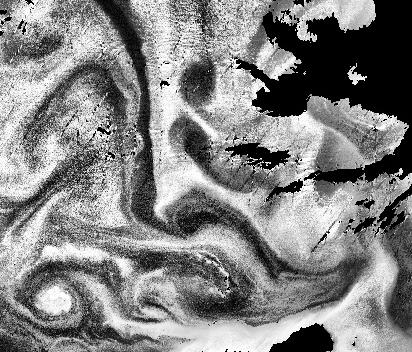CE: (13, 265, 88, 332)
